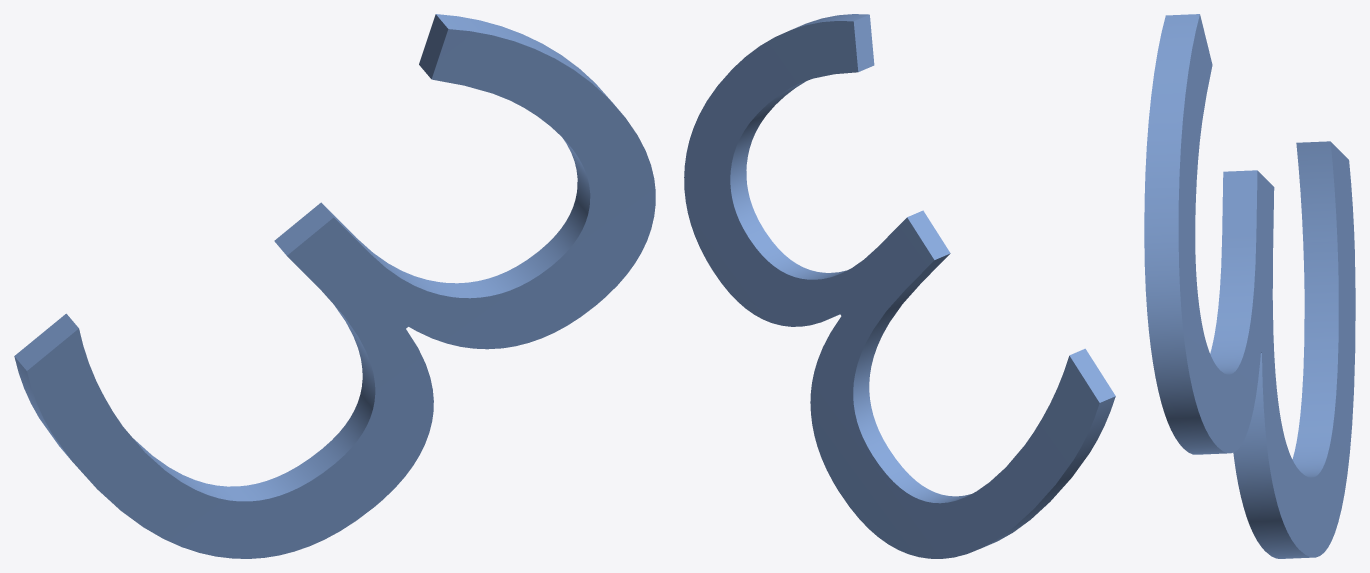
The model's file is New_Number_3.gltf.
The picture shows the model from 3 angles, left to right: view 1: azimuth 30°, elevation 25°; view 2: azimuth 150°, elevation 25°; view 3: azimuth 270°, elevation 25°; orthographic projection. The views are drawn at different scales.
Visible parts, largest first — view 1: Part 93; view 2: Part 93; view 3: Part 93.
Part boxes in pixels (<box>): Part 93: <box>14,14,655,558</box>; Part 93: <box>684,14,1115,558</box>; Part 93: <box>1144,14,1355,558</box>.
Bounding box in the file's own units: 0.00519 × 0.00485 × 0.00156.
